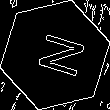N_W: (25, 28, 85, 82)
